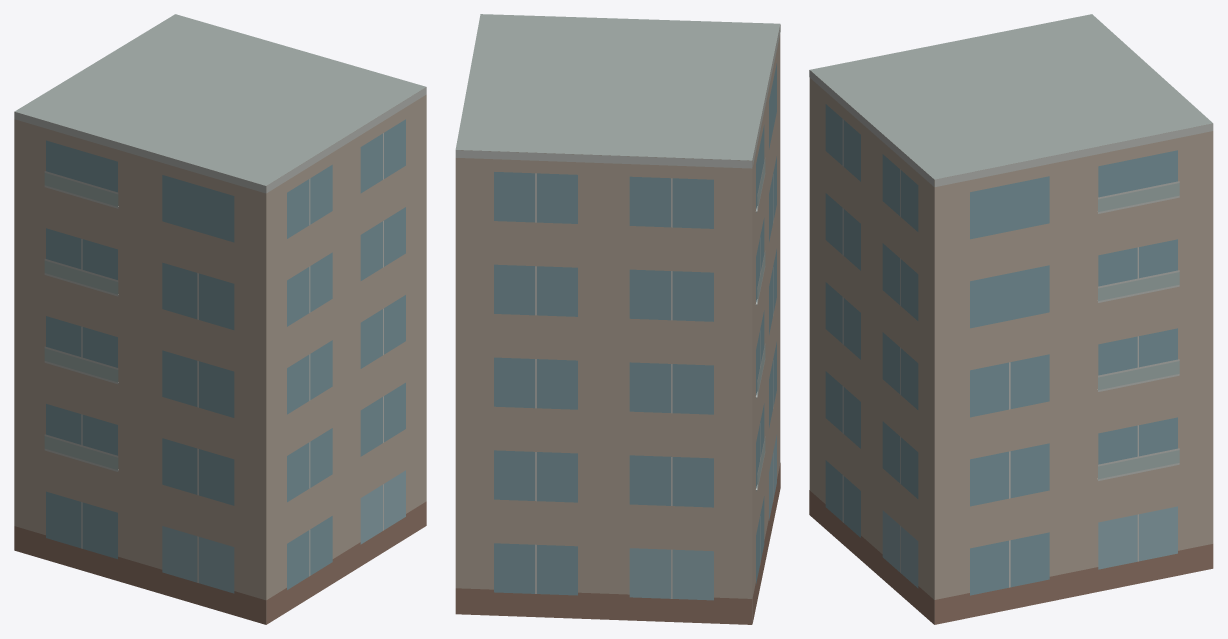
File: survey-upis-32930707.glb
The picture shows the model from 3 angles, left to right: view 1: azimuth 30°, elevation 25°; view 2: azimuth 150°, elevation 25°; view 3: azimuth 270°, elevation 25°; orthographic projection. The views are drawn at different scales.
Parts seen in each view (by area): view 1: survey-upis-32930707.tmp; view 2: survey-upis-32930707.tmp; view 3: survey-upis-32930707.tmp.
Part boxes in pixels (bbox=[...]): survey-upis-32930707.tmp: bbox=[14, 14, 426, 624]; survey-upis-32930707.tmp: bbox=[455, 14, 780, 624]; survey-upis-32930707.tmp: bbox=[809, 14, 1213, 624].
Size of the model in its own units: 11.34 by 14.2 by 11.68.
